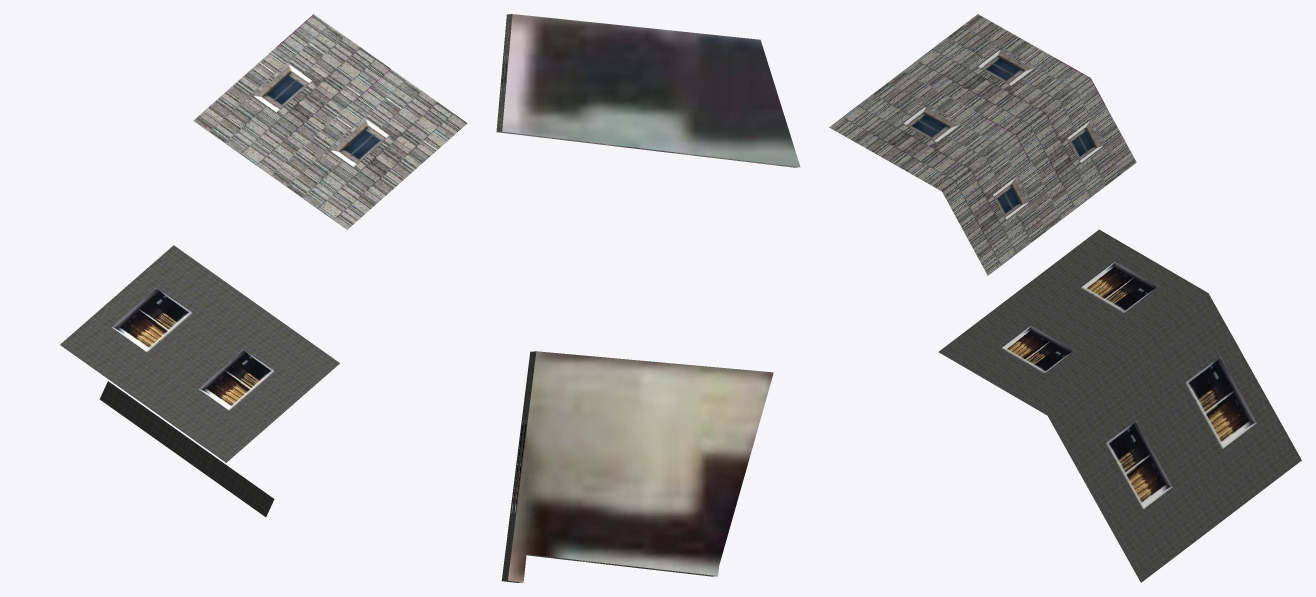
3 renders of one model, left to right at view 1: azimuth 30°, elevation 25°; view 2: azimuth 150°, elevation 25°; view 3: azimuth 270°, elevation 25°, orthographic. The views are drawn at different scales.
Bounding box in the file's own units: 13.01 × 19.35 × 16.14.
Materials: 4 (4 with a texture image).
